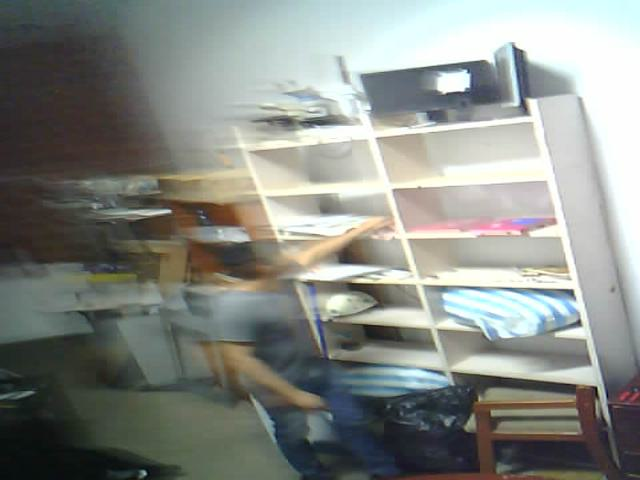person: (182, 191, 411, 480)
